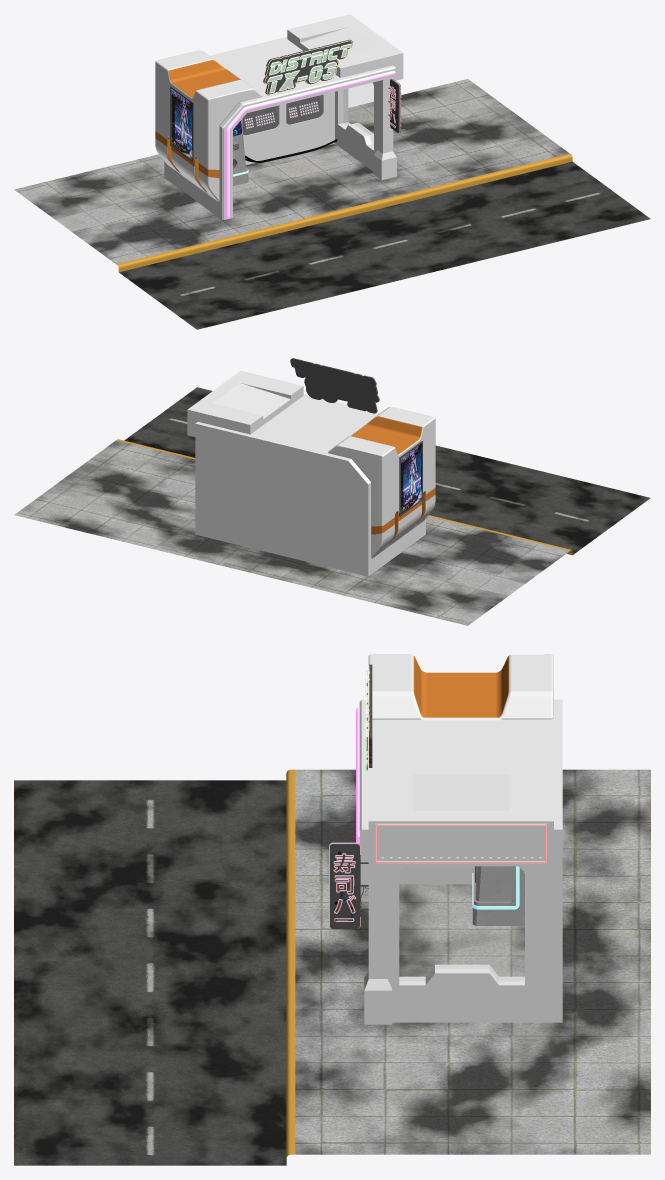
The model's file is cyberpunk_station.glb.
3 views of the same model, one above another, from view 1: azimuth 30°, elevation 25°; view 2: azimuth 150°, elevation 25°; view 3: azimuth 270°, elevation 25° (orthographic). The views are drawn at different scales.
Parts seen in each view (by area): view 1: Plane_Material.012_0, Cube.009__0, Plane.008_Material.013_0, Plane_Material.011_0, Plane.008_Material.014_0, Cylinder.002_Material.009_0, Curve.001_Material.006_0, Curve.003__0, Plane.015_Material.002_0, Cube.001_Material.015_0, Plane.019_Material.010_0, Curve.015_Material.017_0 (+3 smaller); view 2: Plane_Material.012_0, Cube.009__0, Plane.008_Material.013_0, Curve.001_Material.006_0, Plane.008_Material.014_0, Cube.001_Material.015_0, Plane_Material.011_0; view 3: Plane_Material.012_0, Cube.009__0, Plane.008_Material.013_0, Plane.015_Material.002_0, Plane.008_Material.014_0, Plane_Material.011_0, Plane.016_Material.008_0, sign_neon_small_vert_Material.006_0, sign_neon_small_vert_Material.007_0, Cube.013_Material.019_0.
Part boxes in pixels (left/top/right/bottom): Plane_Material.012_0: left=14, top=79, right=650, bottom=329; Cube.009__0: left=164, top=37, right=396, bottom=219; Plane.008_Material.013_0: left=155, top=14, right=403, bottom=201; Plane_Material.011_0: left=116, top=153, right=572, bottom=272; Plane.008_Material.014_0: left=155, top=60, right=239, bottom=192; Cylinder.002_Material.009_0: left=170, top=86, right=321, bottom=165; Curve.001_Material.006_0: left=263, top=39, right=352, bottom=95; Curve.003__0: left=267, top=43, right=350, bottom=92; Plane.015_Material.002_0: left=344, top=83, right=373, bottom=143; Cube.001_Material.015_0: left=171, top=89, right=192, bottom=159; Plane.019_Material.010_0: left=226, top=70, right=395, bottom=218; Curve.015_Material.017_0: left=267, top=44, right=351, bottom=93; Plane_Material.012_0: left=14, top=387, right=650, bottom=625; Cube.009__0: left=195, top=394, right=425, bottom=576; Plane.008_Material.013_0: left=187, top=370, right=435, bottom=558; Curve.001_Material.006_0: left=290, top=358, right=379, bottom=413; Plane.008_Material.014_0: left=351, top=416, right=435, bottom=546; Cube.001_Material.015_0: left=401, top=443, right=421, bottom=513; Plane_Material.011_0: left=116, top=439, right=572, bottom=555; Plane_Material.012_0: left=14, top=769, right=650, bottom=1165; Cube.009__0: left=359, top=699, right=562, bottom=1024; Plane.008_Material.013_0: left=368, top=654, right=553, bottom=866; Plane.015_Material.002_0: left=400, top=867, right=523, bottom=980; Plane.008_Material.014_0: left=413, top=656, right=508, bottom=717; Plane_Material.011_0: left=286, top=769, right=295, bottom=1158; Plane.016_Material.008_0: left=472, top=866, right=524, bottom=925; sign_neon_small_vert_Material.006_0: left=330, top=844, right=368, bottom=928; sign_neon_small_vert_Material.007_0: left=329, top=842, right=360, bottom=928; Cube.013_Material.019_0: left=375, top=824, right=546, bottom=863.
Size of the model in its own units: 10.44 by 3.35 by 7.3.
Materials: 22 (6 with a texture image).
